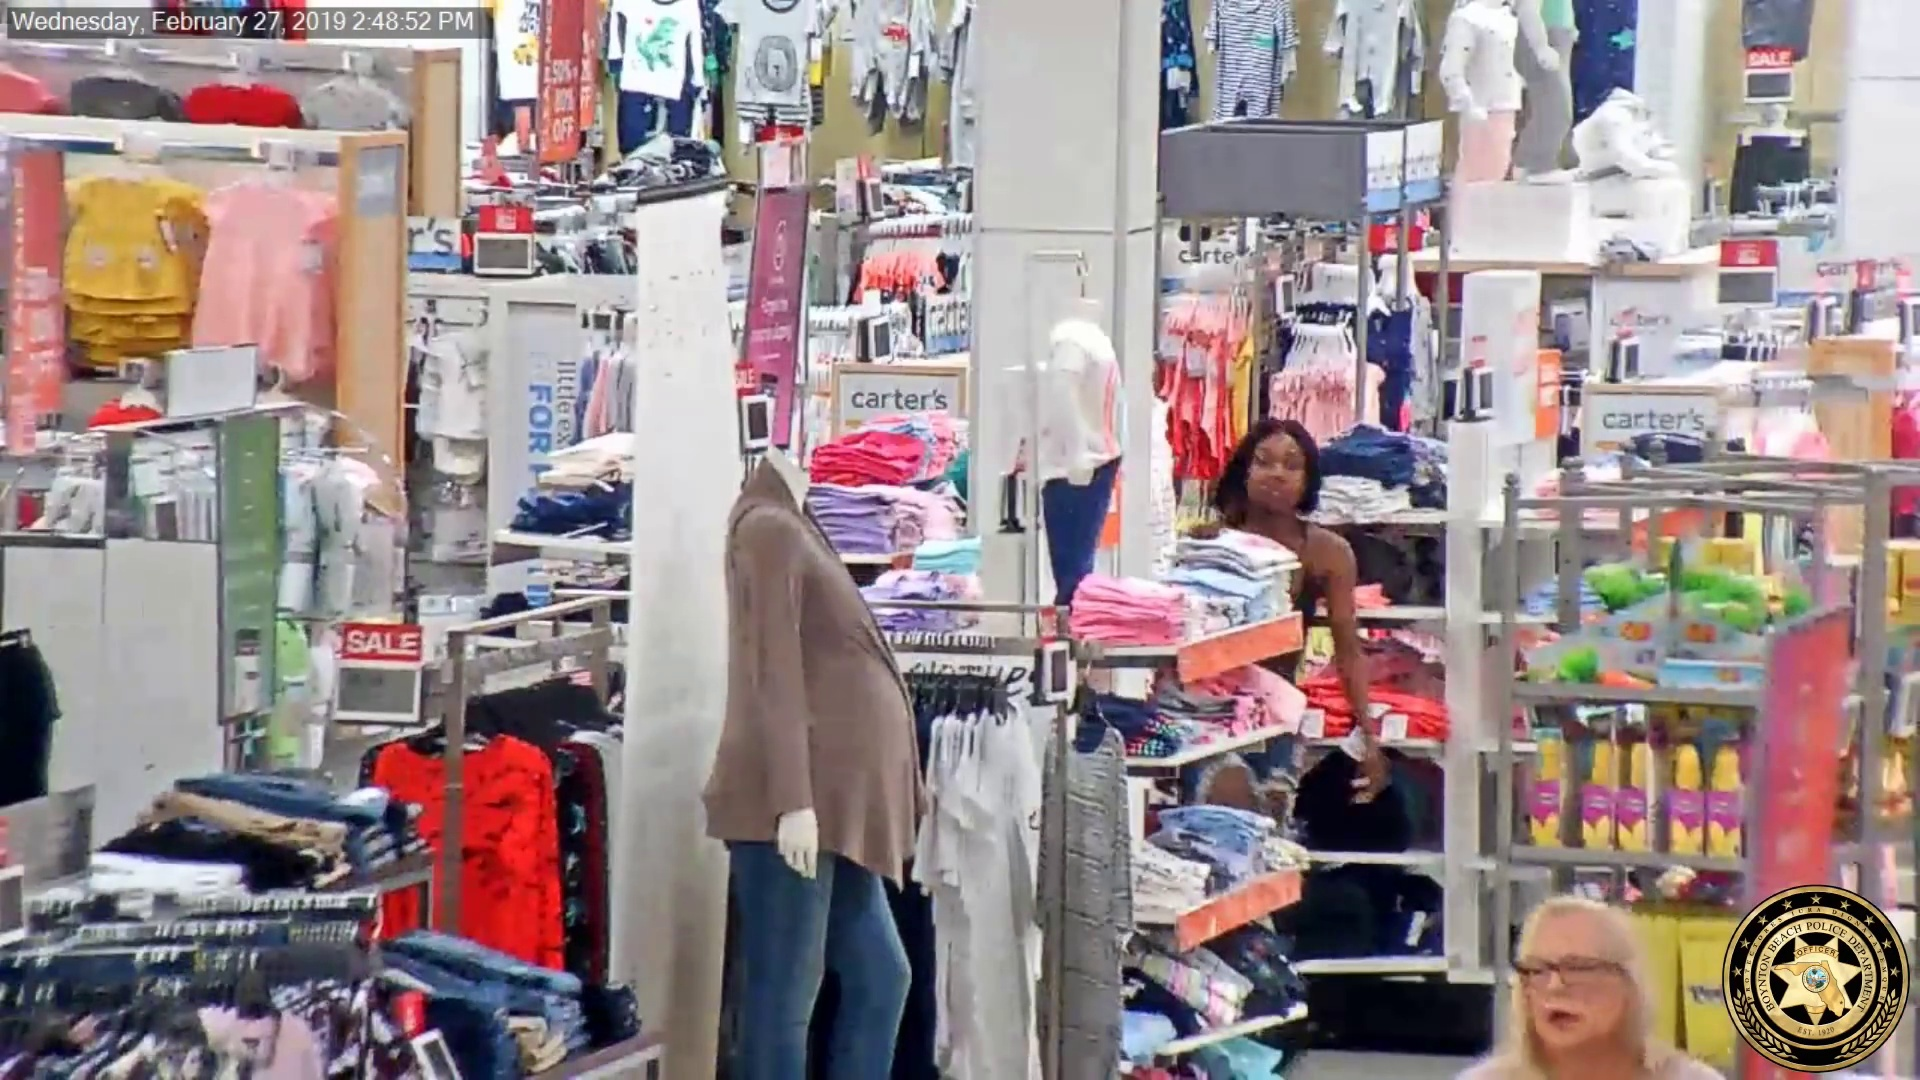face: (1524, 911, 1631, 1058), (1244, 433, 1307, 521)
